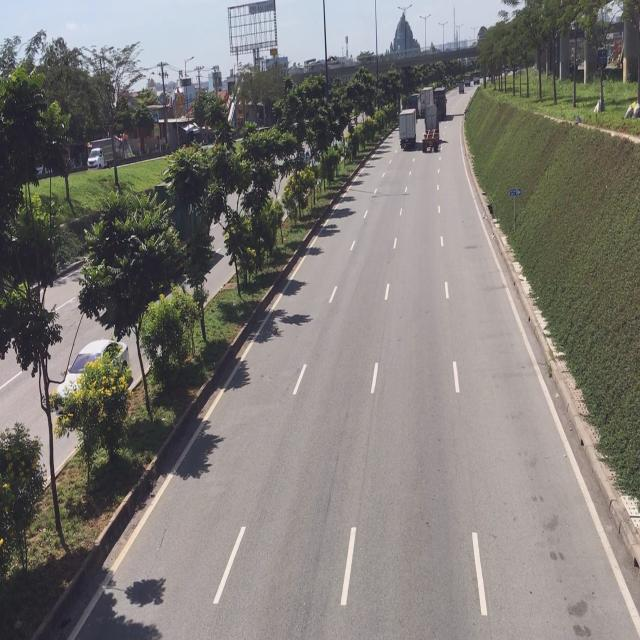truck: (421, 105, 444, 153), (398, 108, 417, 153)
